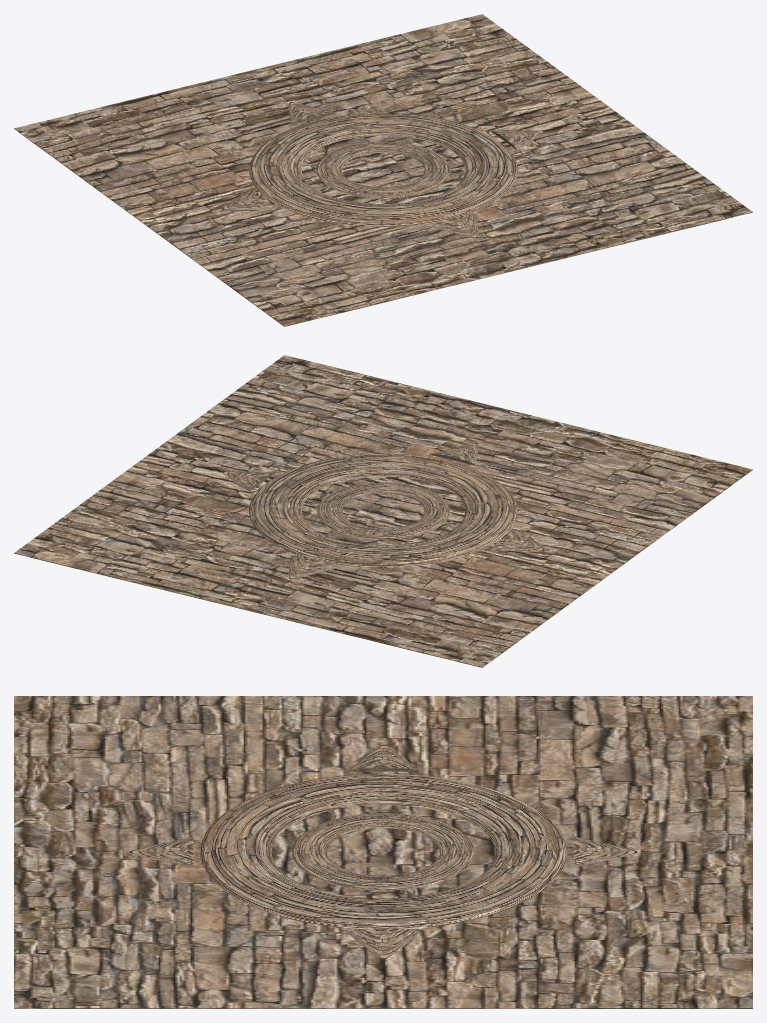
Rendered from Boss Arena.fbx.
3 renders of one model, top to bottom at view 1: azimuth 30°, elevation 25°; view 2: azimuth 150°, elevation 25°; view 3: azimuth 270°, elevation 25°, orthographic. The views are drawn at different scales.
Visible parts, largest first — view 1: Cube, Torus.001, Torus, Cone.001, Cone.003, Cone, Cone.002; view 2: Cube, Torus.001, Torus, Cone.002, Cone.003, Cone, Cone.001; view 3: Cube, Torus.001, Torus, Cone, Cone.001, Cone.002, Cone.003.
Boxes of the visible parts, x1,y1,x2,y2 form: Cube: (14,14,752,326); Torus.001: (249,112,517,226); Torus: (316,141,450,198); Cone.001: (430,215,478,238); Cone.003: (222,189,275,210); Cone: (491,130,544,150); Cone.002: (288,102,336,124); Cube: (14,355,752,667); Torus.001: (249,453,517,567); Torus: (316,482,450,539); Cone.002: (288,556,336,579); Cone.003: (491,530,544,551); Cone: (222,471,275,491); Cone.001: (430,443,478,465); Cube: (14,696,752,1008); Torus.001: (199,773,567,929); Torus: (292,813,474,890); Cone: (347,928,419,959); Cone.001: (129,836,193,867); Cone.002: (573,836,637,867); Cone.003: (347,744,419,771).
Size of the model in its own units: 10000 by 175 by 10000.
Materials: 2 (2 with a texture image).
